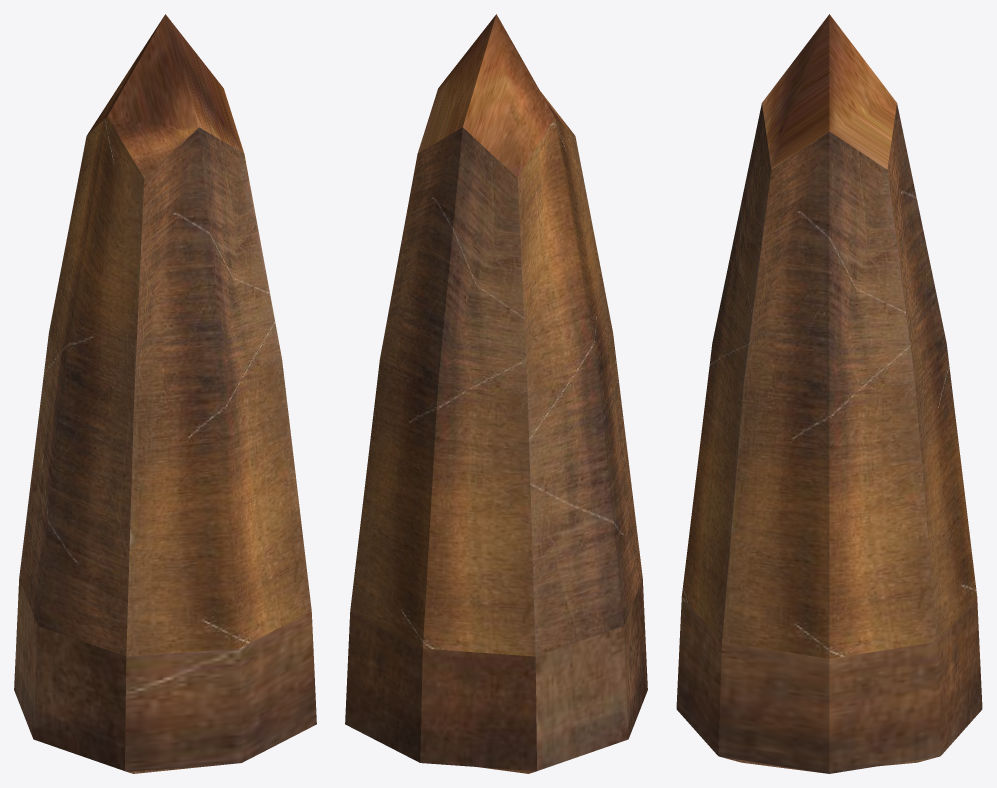
File: bullet New.fbx
The picture shows the model from 3 angles, left to right: view 1: azimuth 30°, elevation 25°; view 2: azimuth 150°, elevation 25°; view 3: azimuth 270°, elevation 25°; orthographic projection.
Parts seen in each view (by area): view 1: Cube; view 2: Cube; view 3: Cube.
Boxes of the visible parts, bbox=[...] form: Cube: bbox=[14, 14, 316, 773]; Cube: bbox=[345, 14, 647, 773]; Cube: bbox=[676, 14, 982, 773].
Bounding box in the file's own units: 2.8 × 7.17 × 2.8.
Materials: 1 (1 with a texture image).
